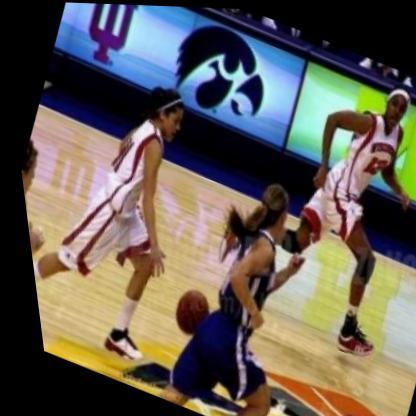basketball: (156, 281, 211, 342)
